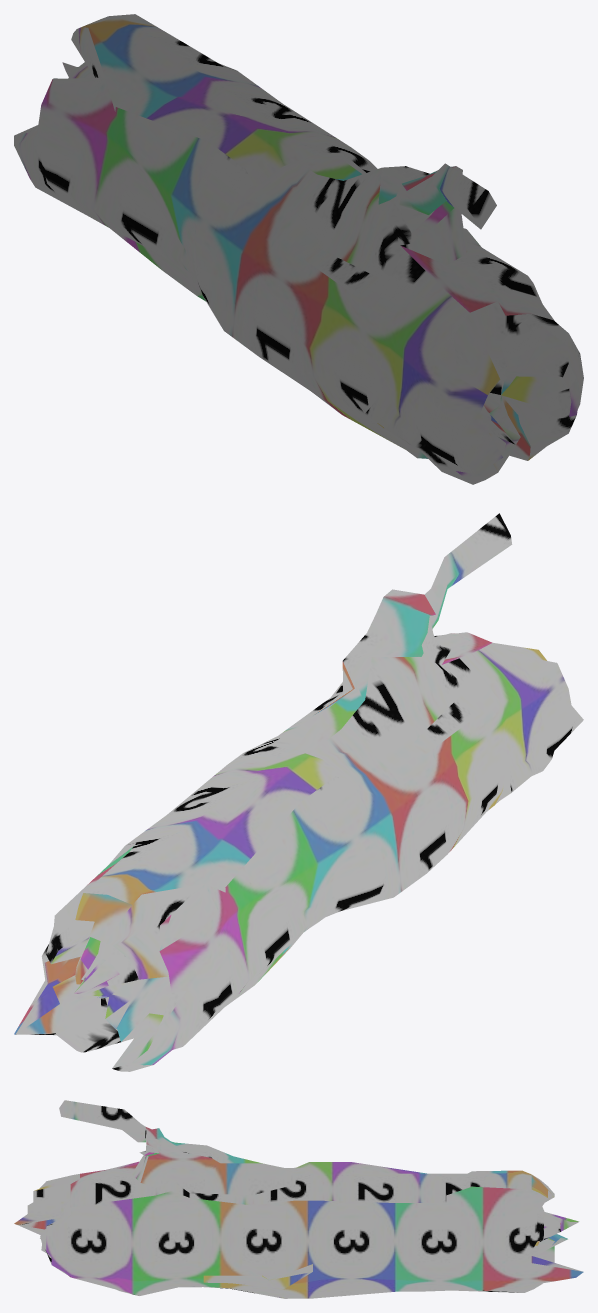
Rendered from driftwoodfbx.fbx.
3 views of the same model, one above another, from view 1: azimuth 30°, elevation 25°; view 2: azimuth 150°, elevation 25°; view 3: azimuth 270°, elevation 25° (orthographic). The views are drawn at different scales.
Parts seen in each view (by area): view 1: pSphere1; view 2: pSphere1; view 3: pSphere1.
Part boxes in pixels (left/top/right/bottom): pSphere1: left=14, top=14, right=583, bottom=484; pSphere1: left=14, top=513, right=583, bottom=1071; pSphere1: left=14, top=1100, right=583, bottom=1298.
Size of the model in its own units: 1.28 by 1.97 by 5.45.
